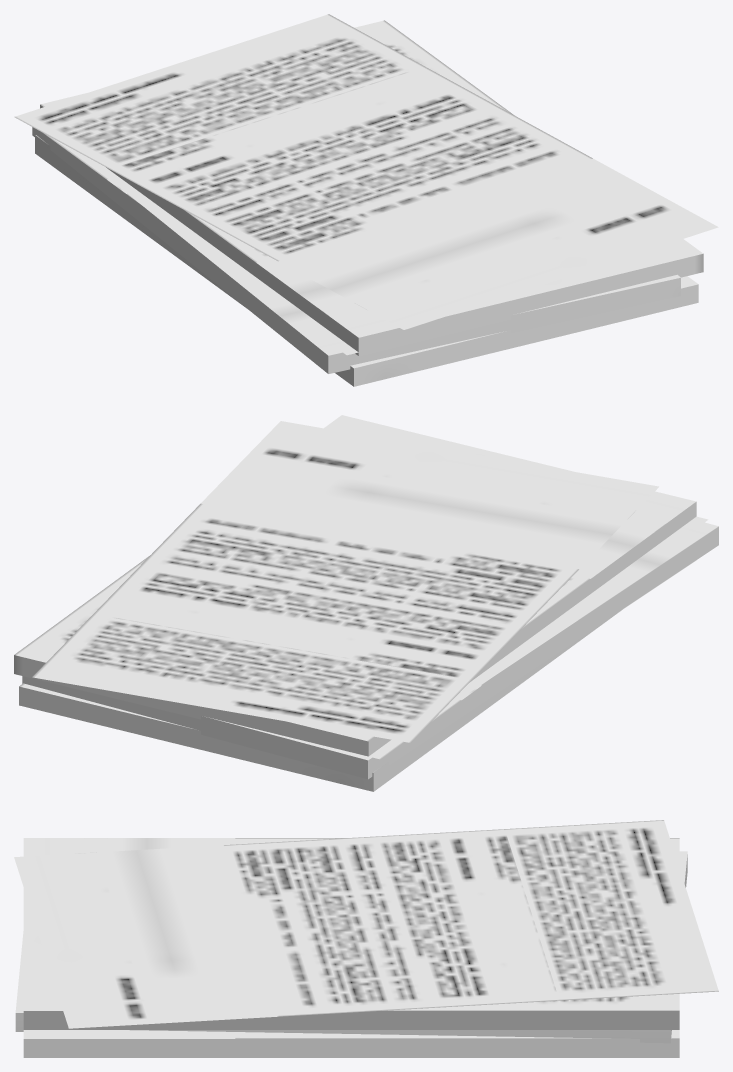
File: document_stack_3.fbx
3 renders of one model, top to bottom at view 1: azimuth 30°, elevation 25°; view 2: azimuth 150°, elevation 25°; view 3: azimuth 270°, elevation 25°, orthographic. The views are drawn at different scales.
Parts seen in each view (by area): view 1: document_stack_3; view 2: document_stack_3; view 3: document_stack_3.
Boxes of the visible parts, box(x1,y1,x2,y2) form: document_stack_3: box(14, 14, 718, 386); document_stack_3: box(14, 415, 718, 791); document_stack_3: box(14, 820, 718, 1057).
Size of the model in its own units: 23.23 by 2.62 by 33.17.
